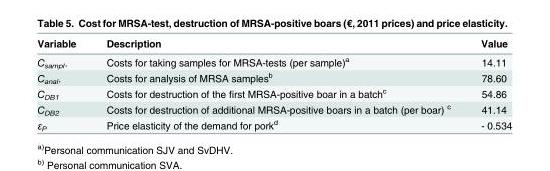table: (36, 36, 511, 131)
table column: (90, 36, 465, 131), (36, 36, 90, 131), (465, 36, 511, 131)
table column header: (36, 36, 511, 51)
table row: (36, 51, 511, 69), (36, 69, 511, 85), (36, 85, 511, 101), (36, 36, 511, 51), (36, 101, 511, 116), (36, 116, 511, 131)
